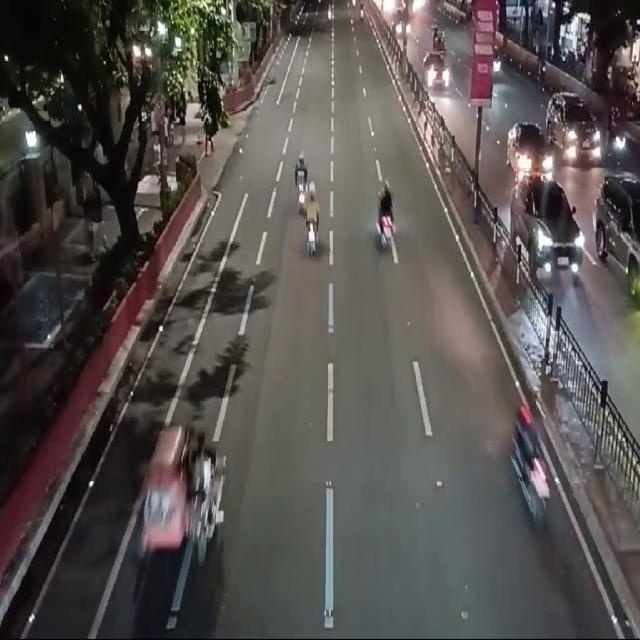car: (509, 178, 576, 275), (594, 175, 636, 293), (548, 91, 603, 163), (508, 129, 552, 184), (420, 54, 451, 90)
motorcycle: (137, 418, 224, 570), (376, 178, 395, 261), (304, 178, 321, 256), (609, 104, 624, 164), (291, 154, 304, 218)
